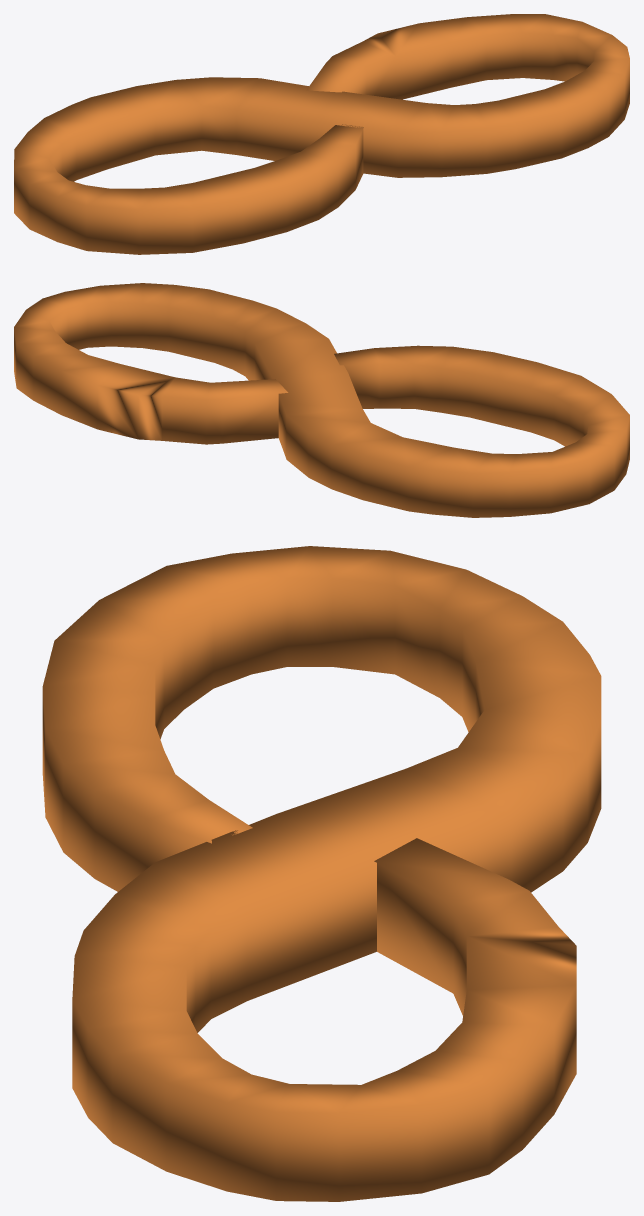
The picture shows the model from 3 angles, top to bottom: view 1: azimuth 30°, elevation 25°; view 2: azimuth 150°, elevation 25°; view 3: azimuth 270°, elevation 25°; orthographic projection. The views are drawn at different scales.
Visible parts, largest first — view 1: _; view 2: _; view 3: _.
Boxes of the visible parts, box(x1,y1,x2,y2) form: _: box(14, 14, 629, 254); _: box(14, 283, 629, 517); _: box(42, 546, 601, 1201).
Bounding box in the file's own units: 2.74 × 1.14 × 0.2.
